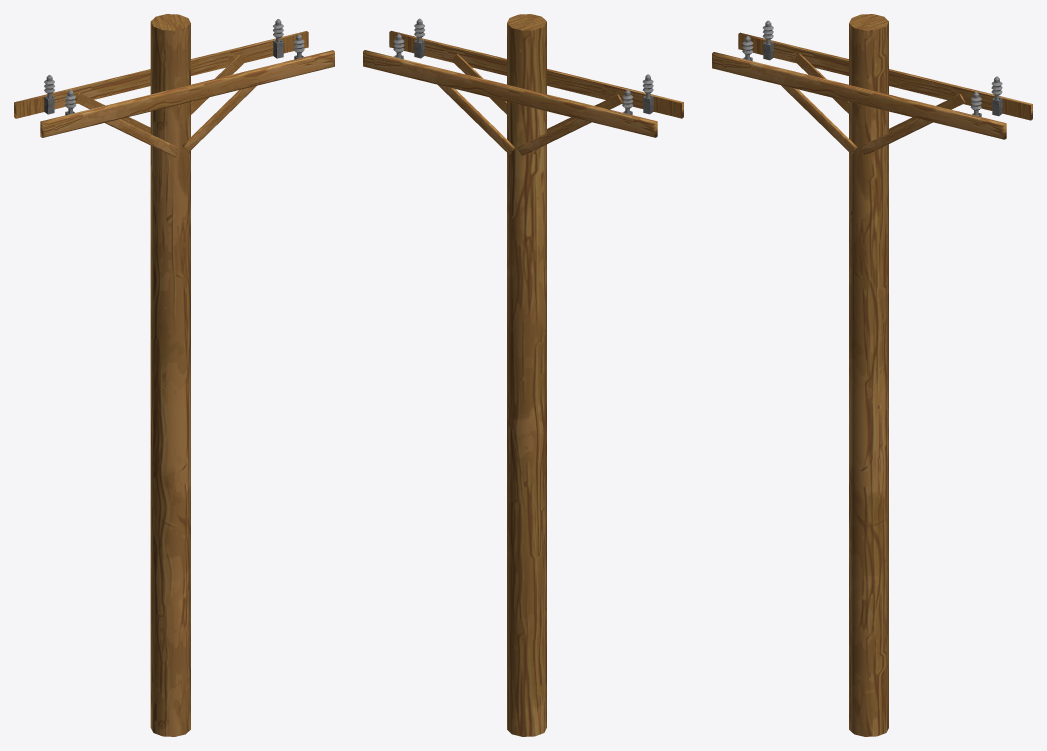
Rendered from Single_PowerPole.fbx.
The picture shows the model from 3 angles, left to right: view 1: azimuth 30°, elevation 25°; view 2: azimuth 150°, elevation 25°; view 3: azimuth 330°, elevation 25°; orthographic projection.
Visible parts, largest first — view 1: Cylinder015; view 2: Cylinder015; view 3: Cylinder015.
Part boxes in pixels (left/top/right/bottom): Cylinder015: left=14, top=14, right=334, bottom=736; Cylinder015: left=363, top=14, right=683, bottom=736; Cylinder015: left=712, top=14, right=1032, bottom=736.
Bounding box in the file's own units: 5.03 × 0.8827 × 11.6.
